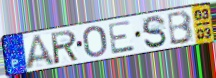A: (24, 33, 58, 71)
B: (167, 9, 195, 47)
E: (107, 19, 138, 56)
O: (81, 24, 108, 59)
R: (49, 28, 80, 66)
S: (140, 14, 168, 50)
